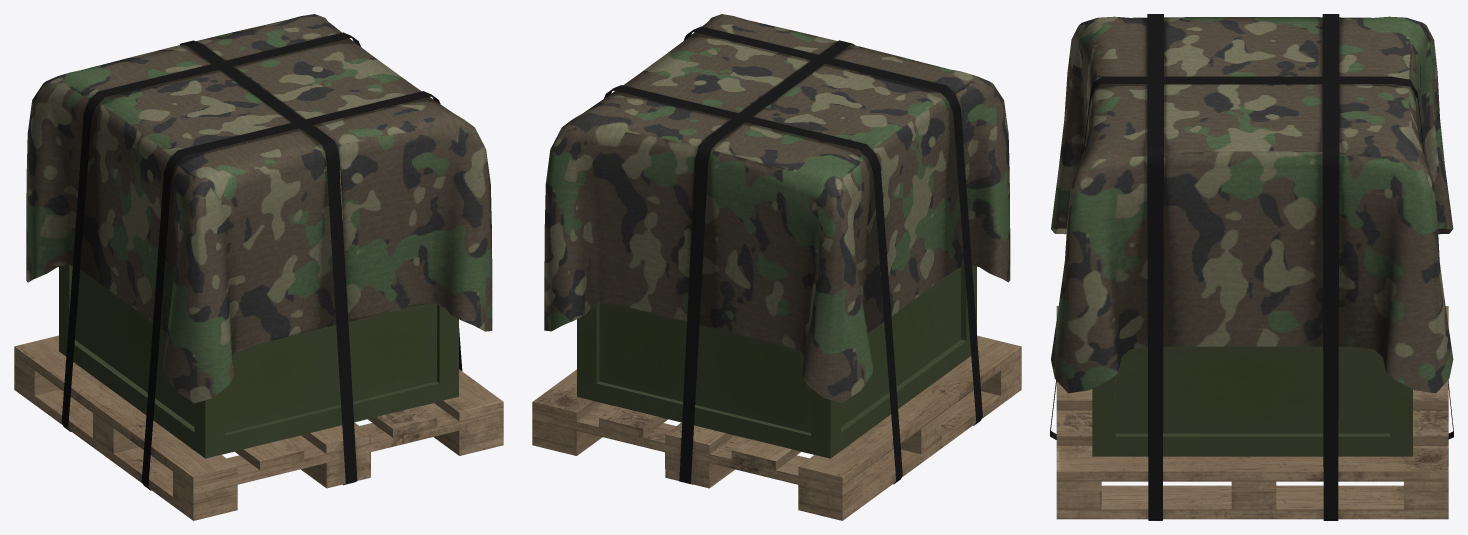
File: supply_crate.glb
3 renders of one model, left to right at view 1: azimuth 30°, elevation 25°; view 2: azimuth 150°, elevation 25°; view 3: azimuth 270°, elevation 25°, orthographic. The views are drawn at different scales.
Parts seen in each view (by area): view 1: supplydrop; view 2: supplydrop; view 3: supplydrop.
Boxes of the visible parts, x1,y1,x2,y2 form: supplydrop: [14, 14, 503, 520]; supplydrop: [532, 14, 1021, 520]; supplydrop: [1050, 14, 1453, 520].
Size of the model in its own units: 0.9913 by 0.9701 by 0.9883.
1 material, 1 textured.
